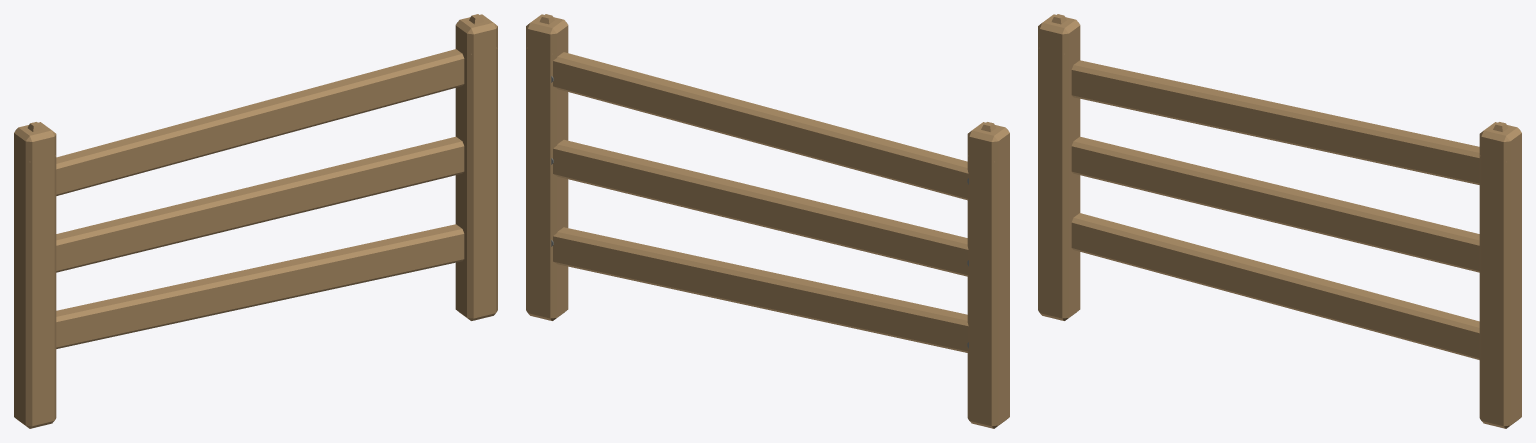
The model's file is farm_fence.glb.
The picture shows the model from 3 angles, left to right: view 1: azimuth 30°, elevation 25°; view 2: azimuth 150°, elevation 25°; view 3: azimuth 330°, elevation 25°; orthographic projection.
Visible parts, largest first — view 1: farm_fence; view 2: farm_fence; view 3: farm_fence.
Boxes of the visible parts, x1,y1,x2,y2 form: farm_fence: (14,14,497,428); farm_fence: (526,14,1009,428); farm_fence: (1038,14,1521,428).
Size of the model in its own units: 1.99 by 1.2 by 0.12.
